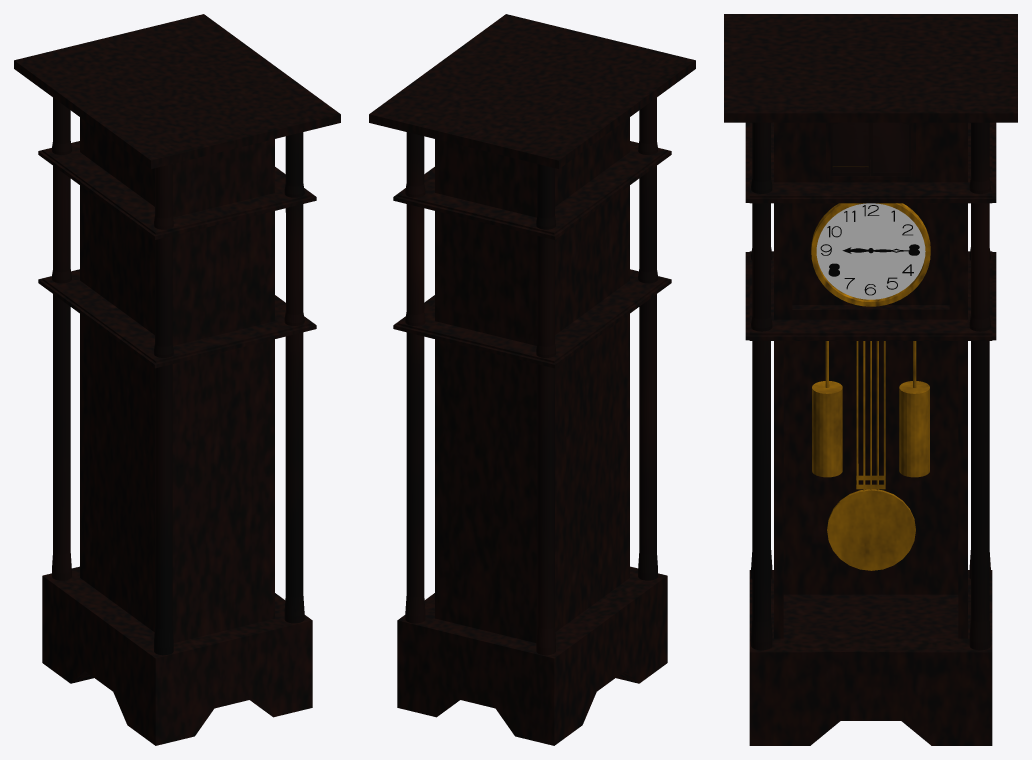
The model's file is big_ben.fbx.
3 renders of one model, left to right at view 1: azimuth 30°, elevation 25°; view 2: azimuth 150°, elevation 25°; view 3: azimuth 270°, elevation 25°, orthographic. The views are drawn at different scales.
Parts seen in each view (by area): view 1: big_ben_Baked; view 2: big_ben_Baked; view 3: big_ben_Baked.
Part boxes in pixels (x1=…): big_ben_Baked: x1=14, y1=14, x2=340, y2=745; big_ben_Baked: x1=369, y1=14, x2=695, y2=745; big_ben_Baked: x1=724, y1=14, x2=1017, y2=745.
Bounding box in the file's own units: 72.6 × 219 × 90.75.
1 material, 1 textured.
